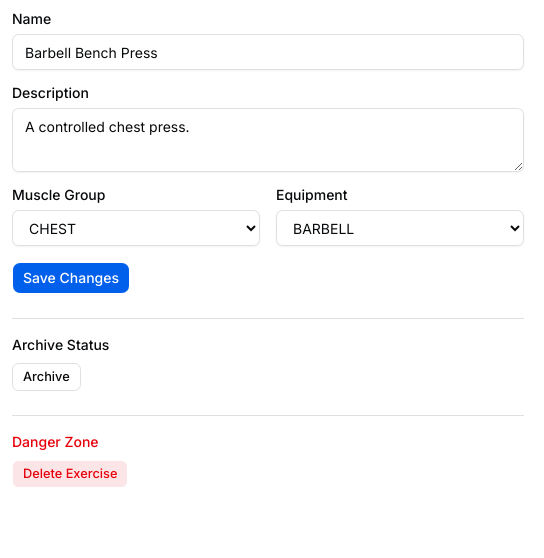
Scenario: EditExerciseForm › editExerciseForm_validUpdate_callsUpdateShowsSuccessAndRefreshesPage
Replace the text in the field labelled "Name" with "  Incline Bench Press  " at (268, 52), box x1=12 y1=34 x2=524 y2=70
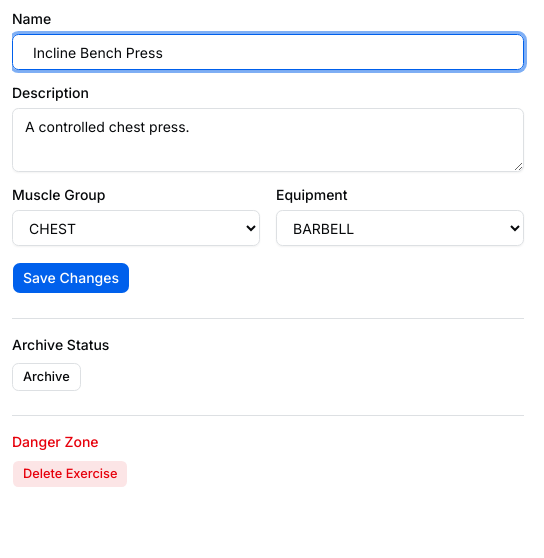
Replace the text in the text box labelled "Description" with "  Upper chest press.  " at (268, 140), box x1=12 y1=108 x2=524 y2=172
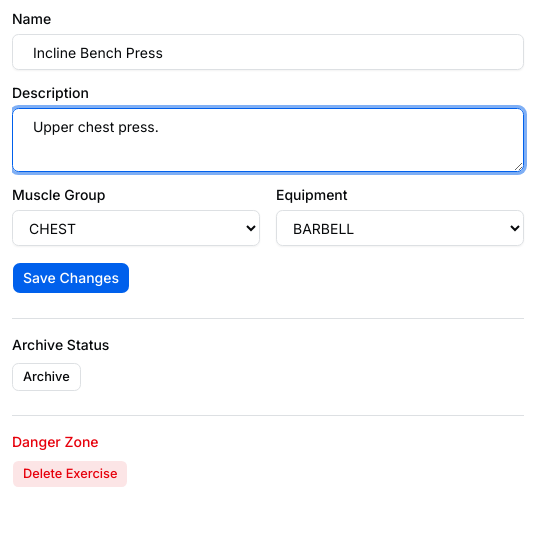
Select "SHOULDERS" in the dropdown labelled "Muscle Group" at (136, 228), box x1=12 y1=210 x2=260 y2=246
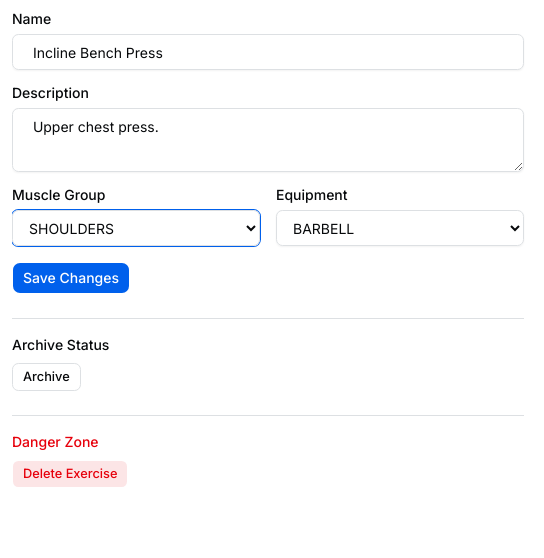
Select "DUMBBELL" in the dropdown labelled "Equipment" at (400, 228), box x1=276 y1=210 x2=524 y2=246
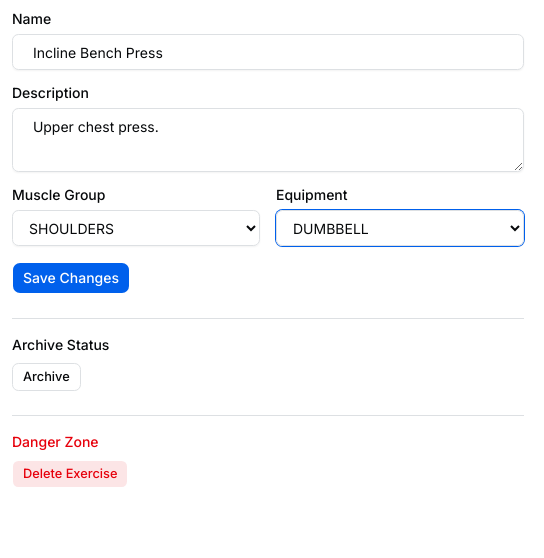
Click the button "Save Changes".
click(71, 278)  # box x1=12 y1=262 x2=130 y2=294
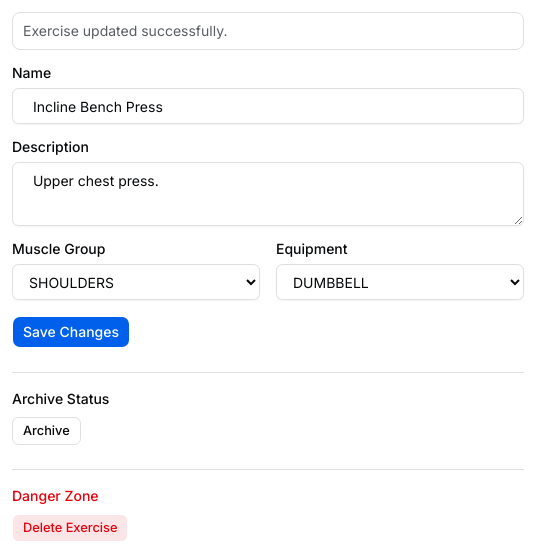
Check: the text "Exercise updated successfully." is shown, box x1=23 y1=22 x2=227 y2=39
